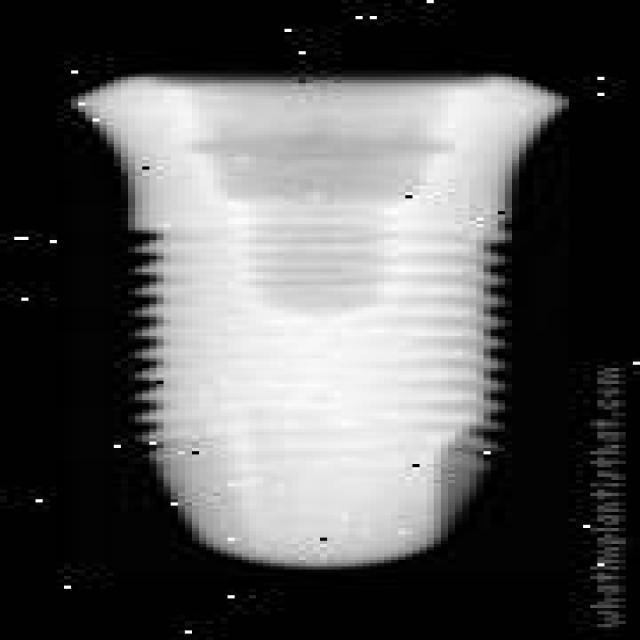OCO Biomedical Implant: (71, 77, 569, 576)
